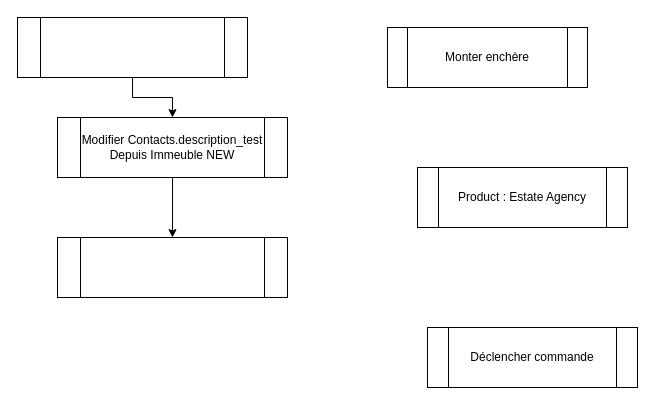
Some shapes in this 655 by 405 pixel diagram are drawn without their labels. The box of each missing label's shape, as (x1, y1, x2, y2) in pixels:
Ajouter un champ a une form <//group> Contacts.description_test: (16, 16, 248, 78)
Liste des offres par Immeuble <notebook>: (56, 236, 288, 298)
